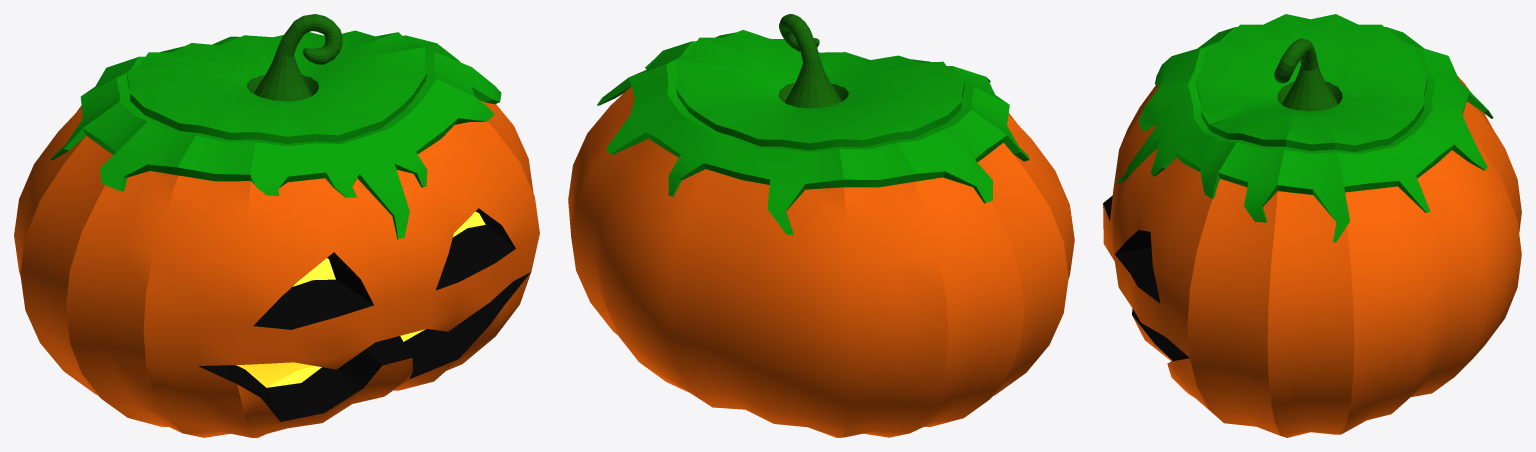
The model's file is RoundPumpkin.fbx.
The picture shows the model from 3 angles, left to right: view 1: azimuth 30°, elevation 25°; view 2: azimuth 150°, elevation 25°; view 3: azimuth 270°, elevation 25°; orthographic projection. The views are drawn at different scales.
Parts seen in each view (by area): view 1: RoundPumpkin; view 2: RoundPumpkin; view 3: RoundPumpkin.
Part boxes in pixels (box(x1,y1,x2,y2)): RoundPumpkin: box(14, 14, 539, 437); RoundPumpkin: box(568, 14, 1074, 437); RoundPumpkin: box(1103, 14, 1521, 437).
Bounding box in the file's own units: 202 × 152 × 164.
